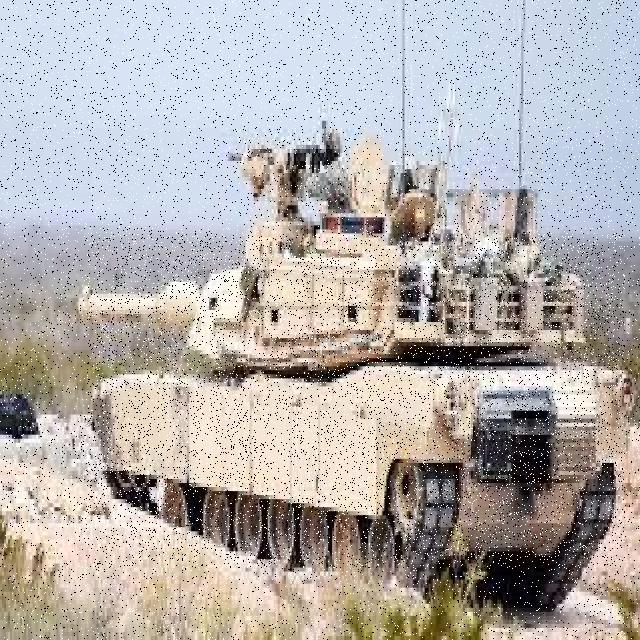MIL_MBT: (86, 233, 624, 568)
